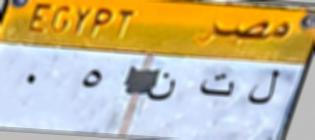0: (20, 63, 46, 94)
5: (75, 66, 109, 100)
laam: (241, 68, 285, 108)
noon: (141, 69, 183, 107)
taa: (195, 70, 236, 103)
